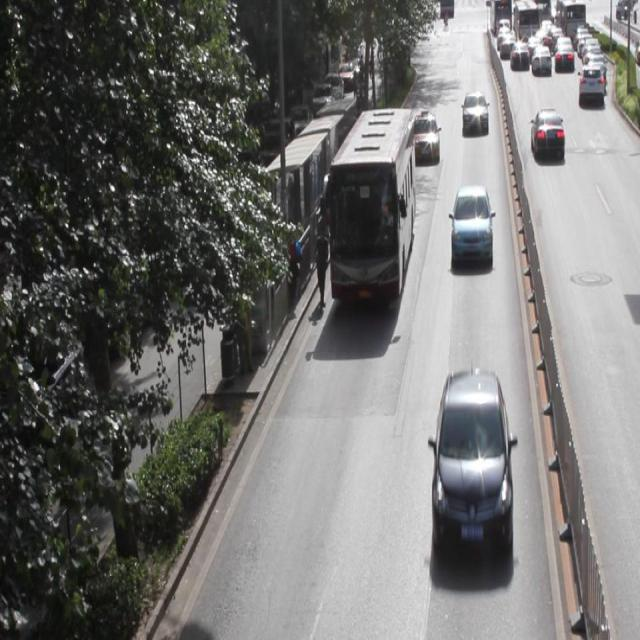car: (432, 371, 510, 553), (450, 186, 491, 262), (530, 108, 564, 162), (411, 114, 438, 164), (460, 91, 487, 132)
van: (331, 109, 412, 301)
